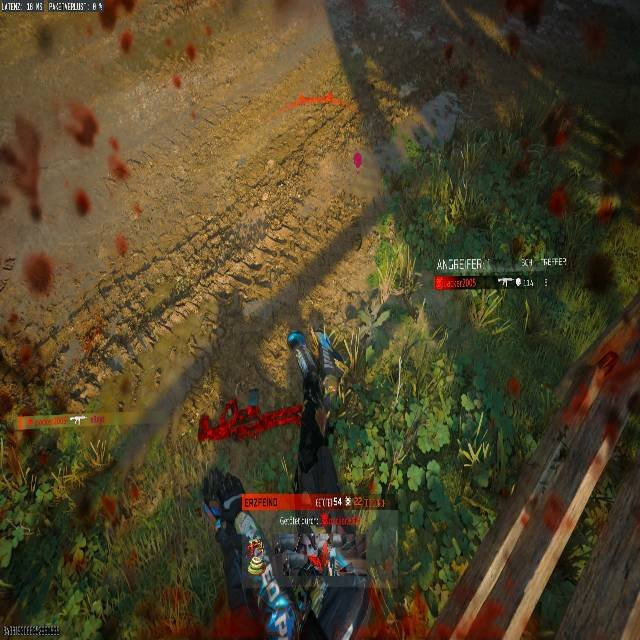player: (286, 329, 347, 470)
